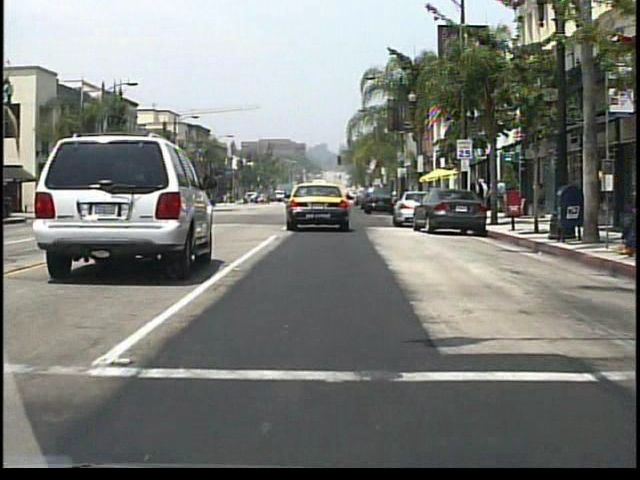person: (576, 195, 629, 252), (469, 174, 486, 220), (477, 178, 491, 217), (501, 180, 512, 215), (489, 183, 501, 215)
